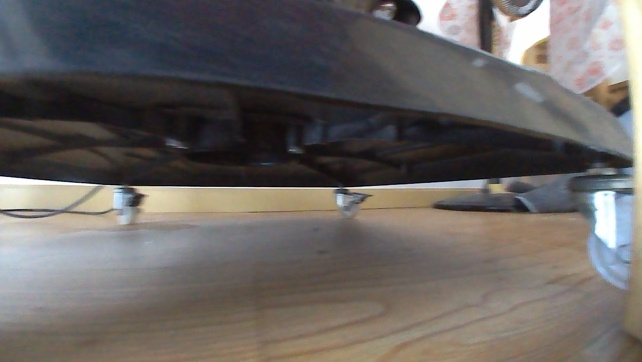chair_base: (430, 183, 528, 214)
wire: (0, 185, 115, 219)
